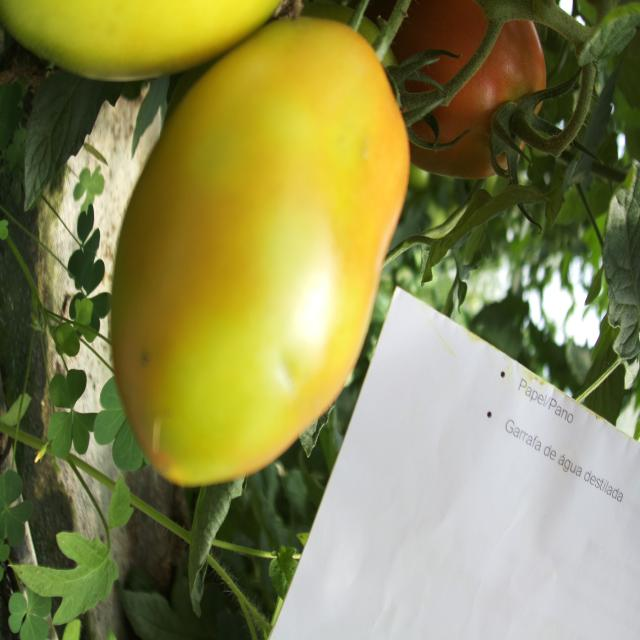yesil: (96, 27, 414, 518)
